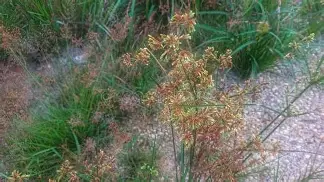weed: (131, 25, 252, 181)
